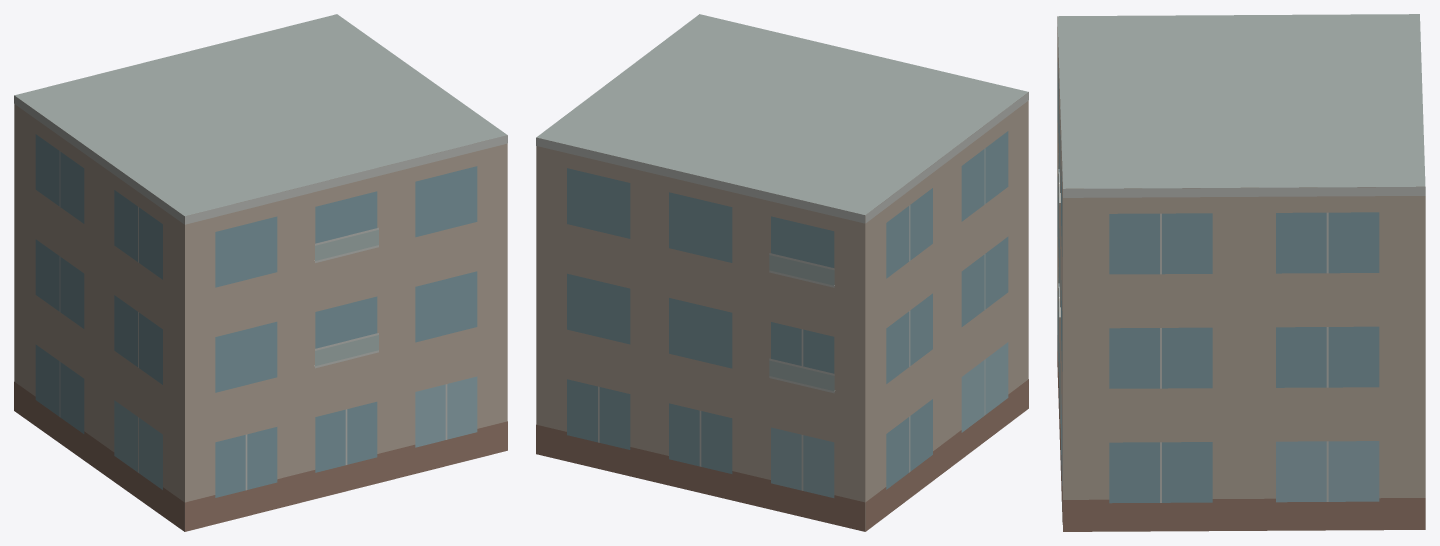
The model's file is survey-upis-32718968.glb.
The picture shows the model from 3 angles, left to right: view 1: azimuth 30°, elevation 25°; view 2: azimuth 150°, elevation 25°; view 3: azimuth 270°, elevation 25°; orthographic projection. The views are drawn at different scales.
Parts seen in each view (by area): view 1: survey-upis-32718968.tmp; view 2: survey-upis-32718968.tmp; view 3: survey-upis-32718968.tmp.
Part boxes in pixels (x1,y1,x2,y2): survey-upis-32718968.tmp: [14, 14, 507, 531]; survey-upis-32718968.tmp: [536, 14, 1028, 531]; survey-upis-32718968.tmp: [1057, 14, 1425, 531].
Bounding box in the file's own units: 10.01 × 9.15 × 8.91.
